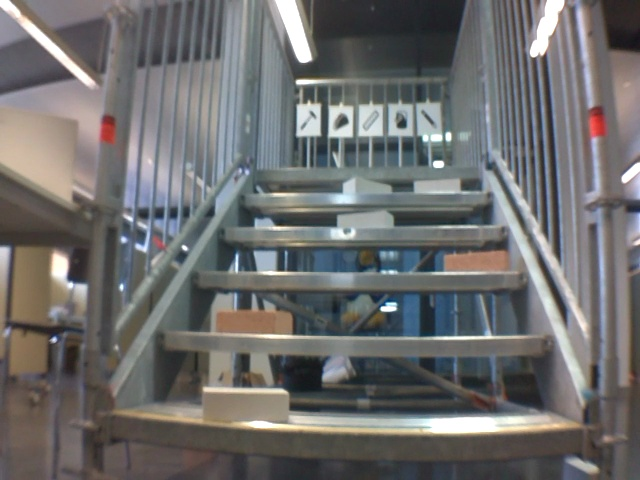brick: (202, 387, 288, 424), (216, 311, 292, 334), (444, 250, 511, 273), (337, 210, 392, 228), (343, 177, 390, 192), (415, 180, 459, 192)
bucket: (392, 109, 409, 131)
edge: (113, 414, 579, 459), (158, 332, 552, 356), (191, 272, 530, 289), (218, 226, 511, 240), (240, 192, 495, 205), (253, 167, 484, 180)
hammer: (298, 107, 318, 134)
pencil: (419, 107, 439, 131)
ruler: (360, 108, 381, 134)
stairs: (80, 1, 623, 479)
steps: (107, 164, 584, 464)
taco: (331, 110, 351, 133)
